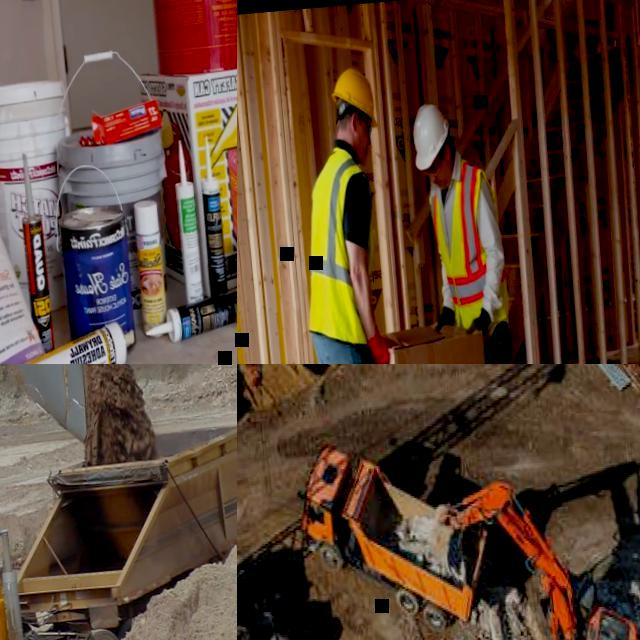helmet: (411, 102, 451, 170), (332, 69, 378, 126)
machinery: (0, 412, 237, 640), (294, 427, 505, 640), (426, 465, 640, 640), (0, 364, 237, 453)
no_mask: (356, 140, 371, 162), (438, 169, 448, 189)
person: (283, 67, 422, 364), (409, 93, 542, 364)
vest: (294, 146, 382, 346), (427, 155, 515, 342)
